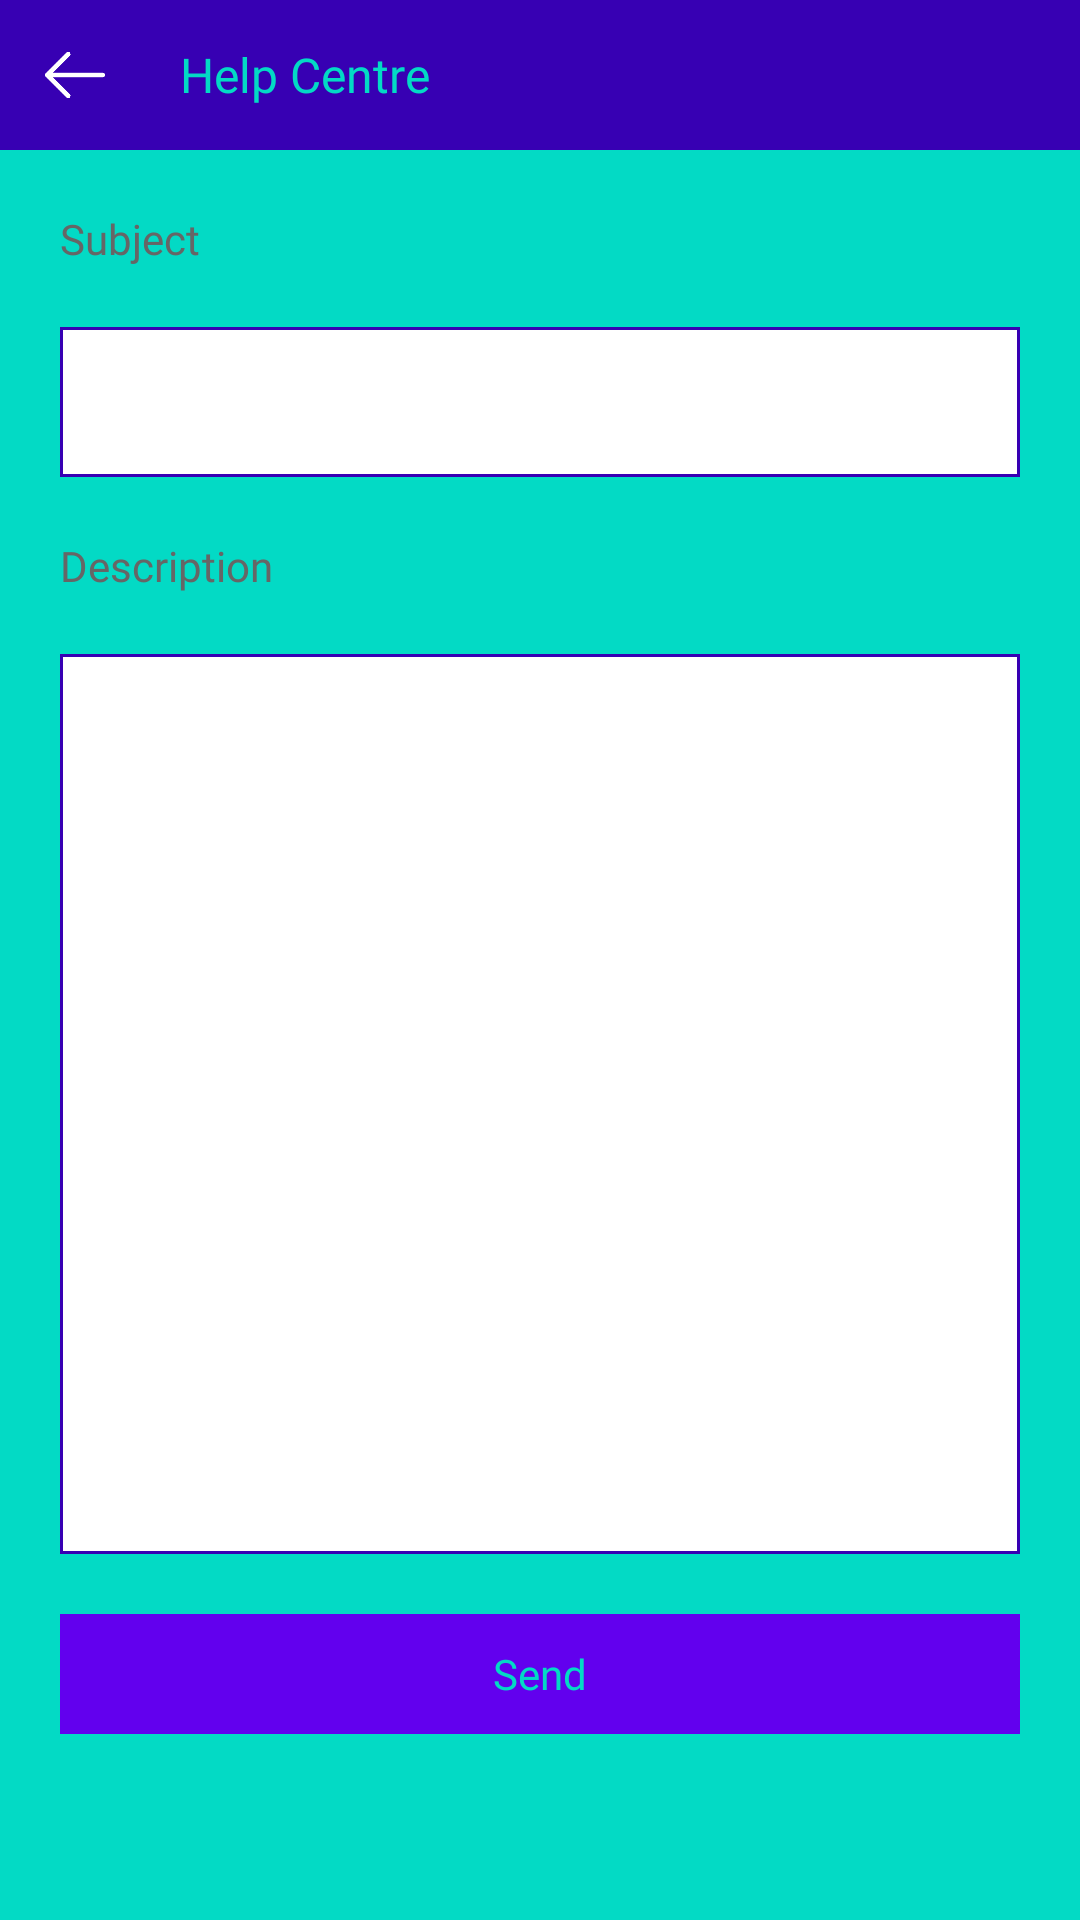

Icons on this 1080px×1920px Android screen, each with its box as region(x1, y1, x2, y2):
back: region(45, 52, 105, 98)
